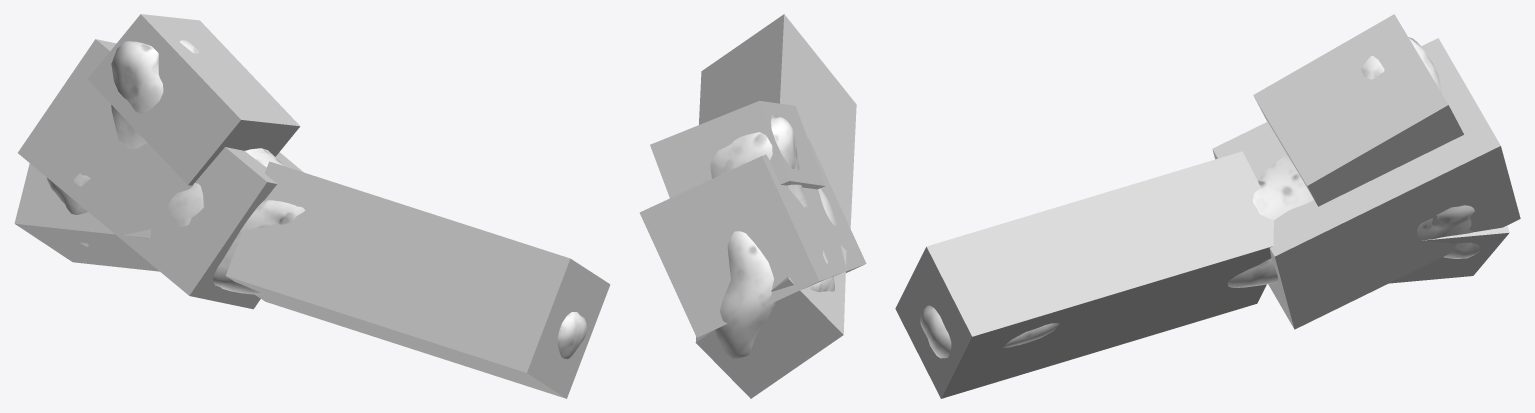
File: Coral_3.glb
The picture shows the model from 3 angles, left to right: view 1: azimuth 30°, elevation 25°; view 2: azimuth 150°, elevation 25°; view 3: azimuth 270°, elevation 25°; orthographic projection. The views are drawn at different scales.
Visible parts, largest first — view 1: Cube.006, Cube.007, Cube.008, A03612_Koralle3.001, Cube.009; view 2: Cube.007, Cube.006, A03612_Koralle3.001, Cube.009, Cube.008; view 3: Cube.006, Cube.007, Cube.008, A03612_Koralle3.001, Cube.009.
Part boxes in pixels (x1=…): Cube.006: x1=226, y1=161, x2=610, y2=398; Cube.007: x1=18, y1=39, x2=303, y2=309; Cube.008: x1=87, y1=14, x2=300, y2=185; A03612_Koralle3.001: x1=46, y1=40, x2=587, y2=359; Cube.009: x1=14, y1=163, x2=159, y2=271; Cube.007: x1=639, y1=138, x2=866, y2=337; Cube.006: x1=699, y1=14, x2=856, y2=228; A03612_Koralle3.001: x1=710, y1=115, x2=836, y2=358; Cube.009: x1=695, y1=245, x2=846, y2=398; Cube.008: x1=650, y1=100, x2=825, y2=198; Cube.006: x1=895, y1=151, x2=1273, y2=398; Cube.007: x1=1212, y1=38, x2=1520, y2=329; Cube.008: x1=1253, y1=14, x2=1463, y2=206; A03612_Koralle3.001: x1=920, y1=37, x2=1480, y2=358; Cube.009: x1=1389, y1=226, x2=1509, y2=283.
Size of the model in its own units: 0.4861 by 0.3453 by 0.6906.
1 material, 1 textured.
